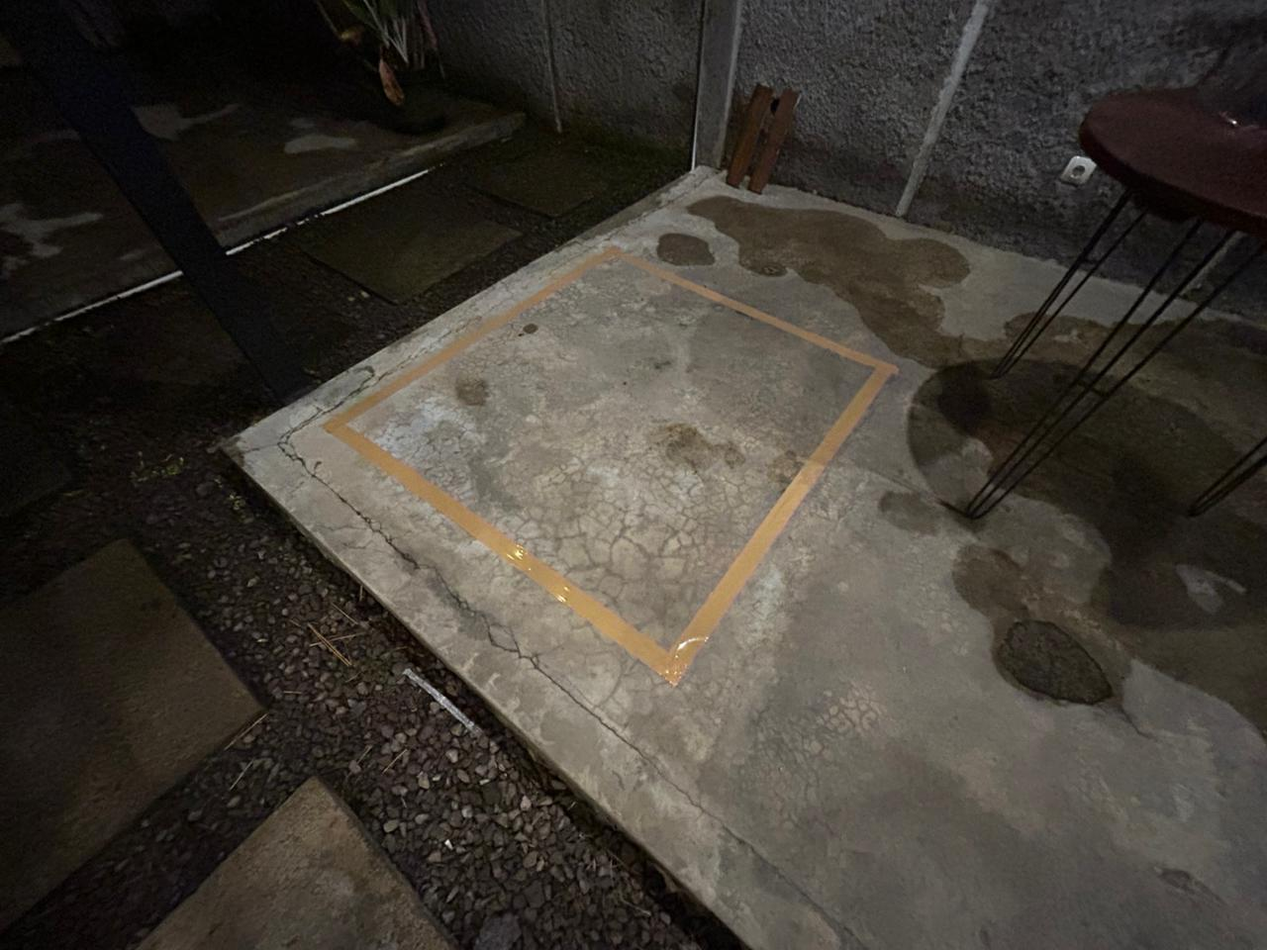floor marking: (323, 248, 896, 685)
